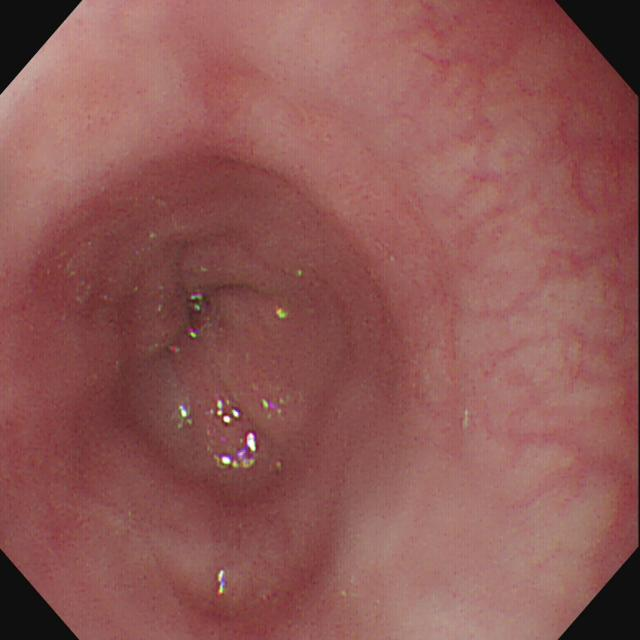A: (31, 197, 125, 316), (197, 58, 262, 126)
U: (220, 432, 260, 471), (216, 403, 242, 424), (216, 570, 228, 595)
